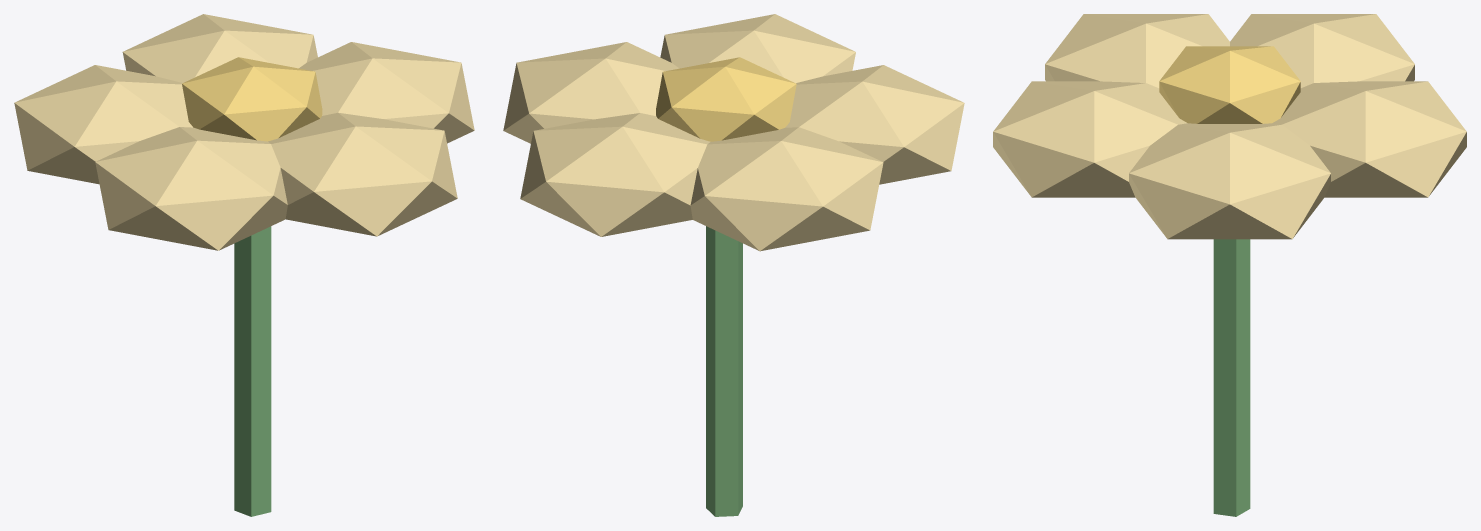
The model's file is flower.glb.
3 renders of one model, left to right at view 1: azimuth 30°, elevation 25°; view 2: azimuth 150°, elevation 25°; view 3: azimuth 270°, elevation 25°, orthographic. The views are drawn at different scales.
Visible parts, largest first — view 1: flower; view 2: flower; view 3: flower.
Boxes of the visible parts, x1=… form: flower: x1=14, y1=14, x2=474, y2=516; flower: x1=503, y1=14, x2=964, y2=516; flower: x1=993, y1=14, x2=1466, y2=516.
Size of the model in its own units: 0.396 by 0.425 by 0.3984.
